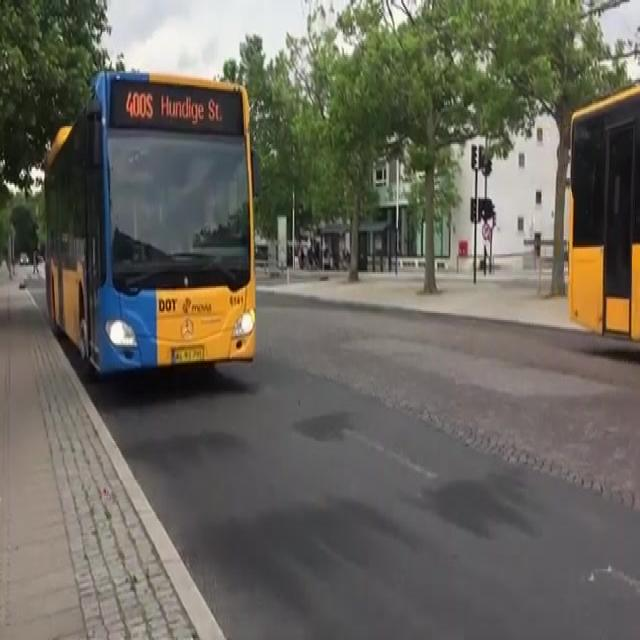bus: (46, 70, 265, 376), (570, 79, 640, 360)
